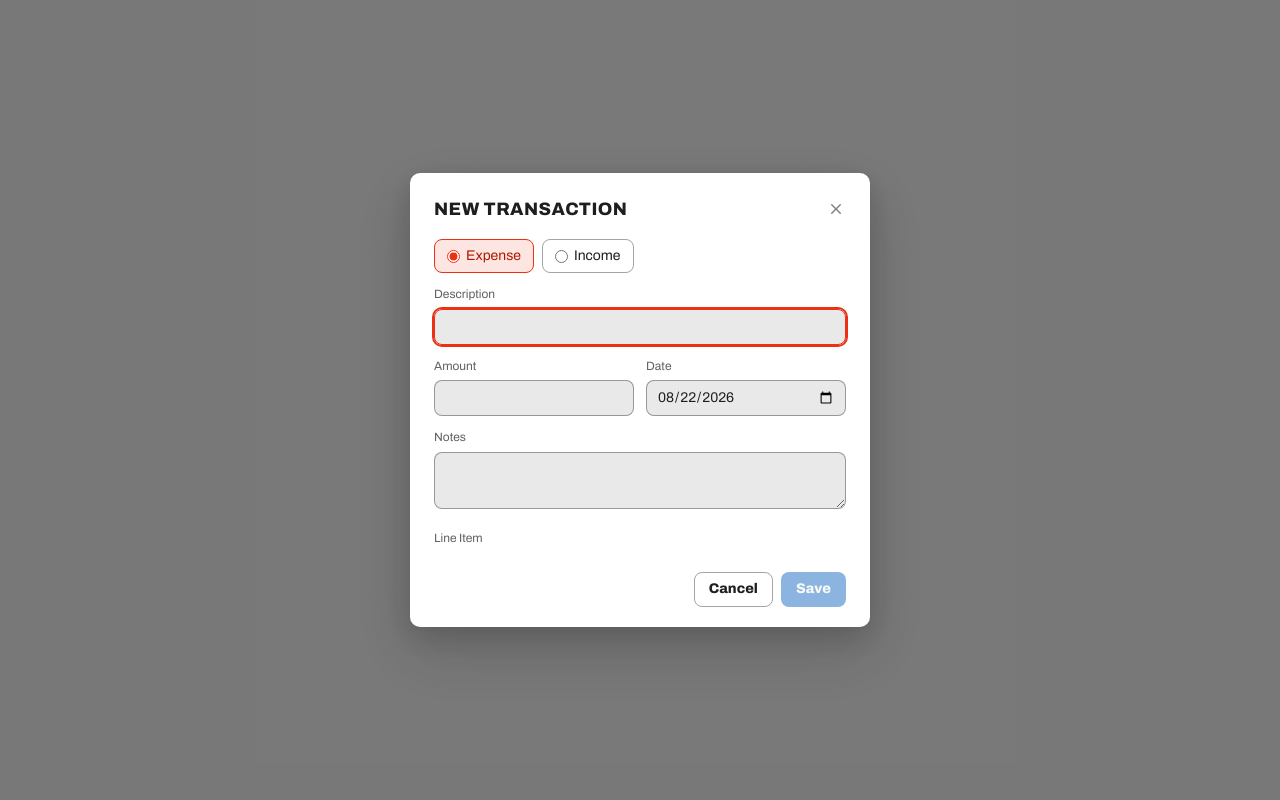
Scenario: TransactionEditDialog › enables Save once a valid new transaction is entered
Type "Lunch" into the 1st field at (640, 327), box top-left (434, 309), bottom-right (846, 345)
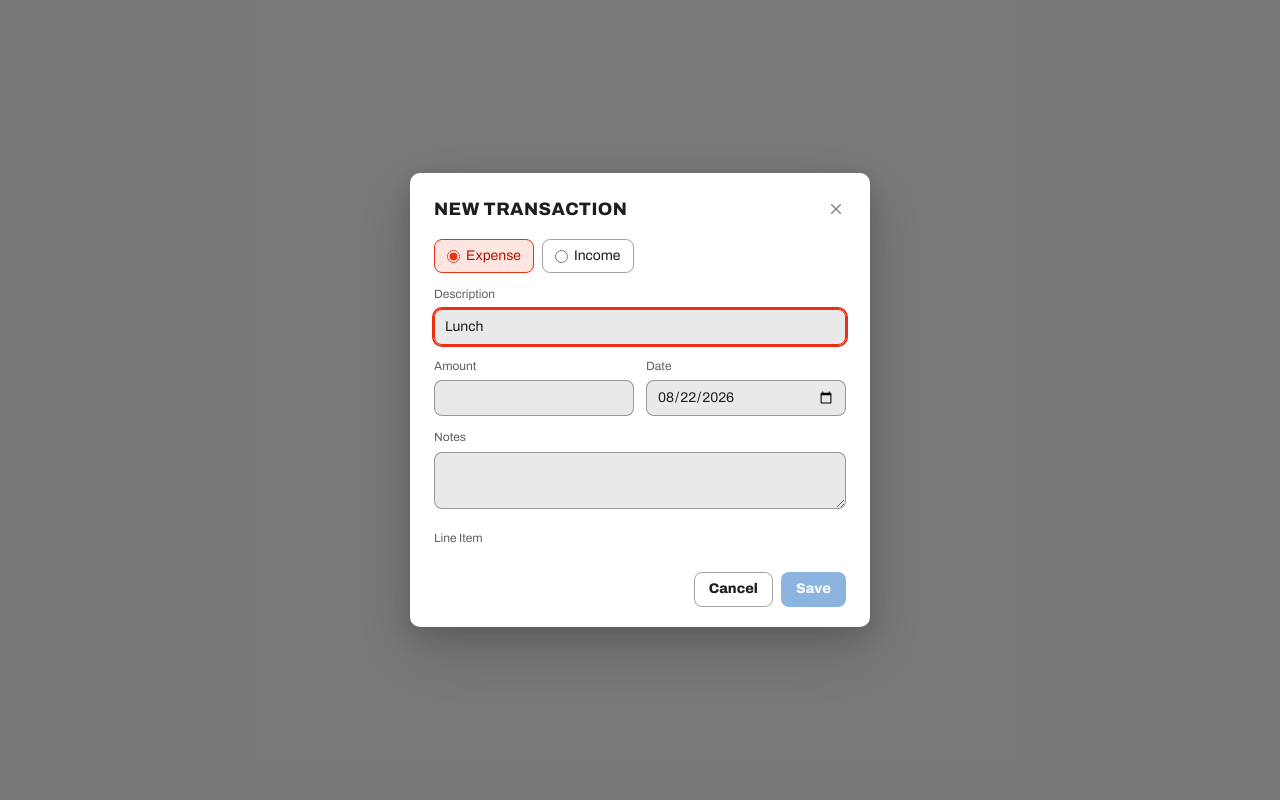
Type "20" into the field named "Amount" at (534, 398), box top-left (434, 380), bottom-right (634, 416)
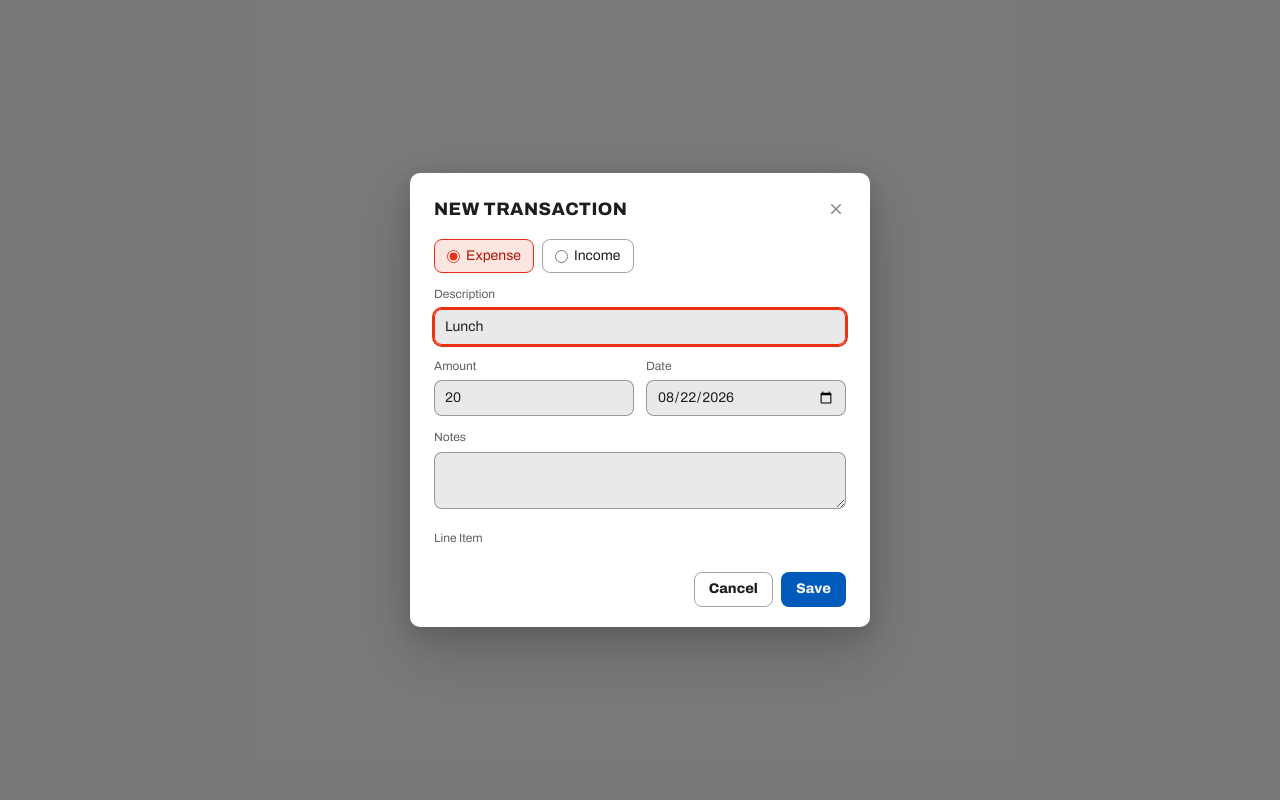
Now the button "Save" is enabled, box top-left (781, 572), bottom-right (846, 607)
